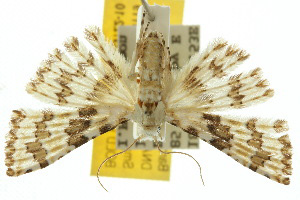Alucitidae: (1, 7, 294, 186)
moth: (3, 9, 296, 188)
